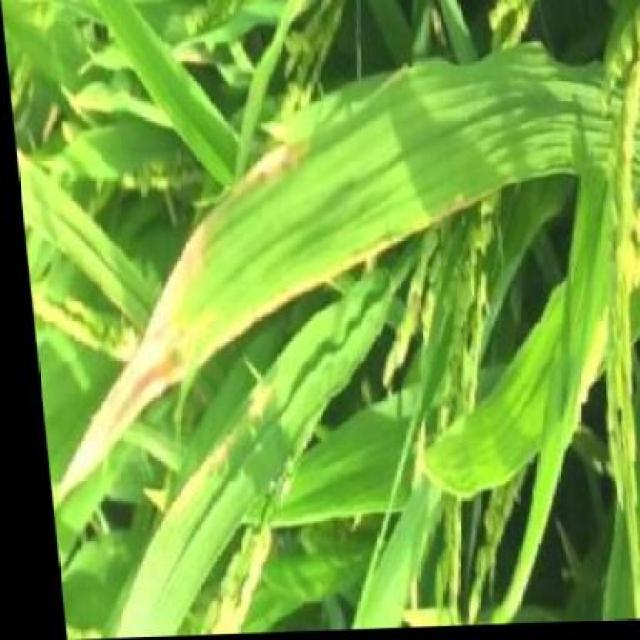Brown_Spot: (115, 92, 623, 326)
